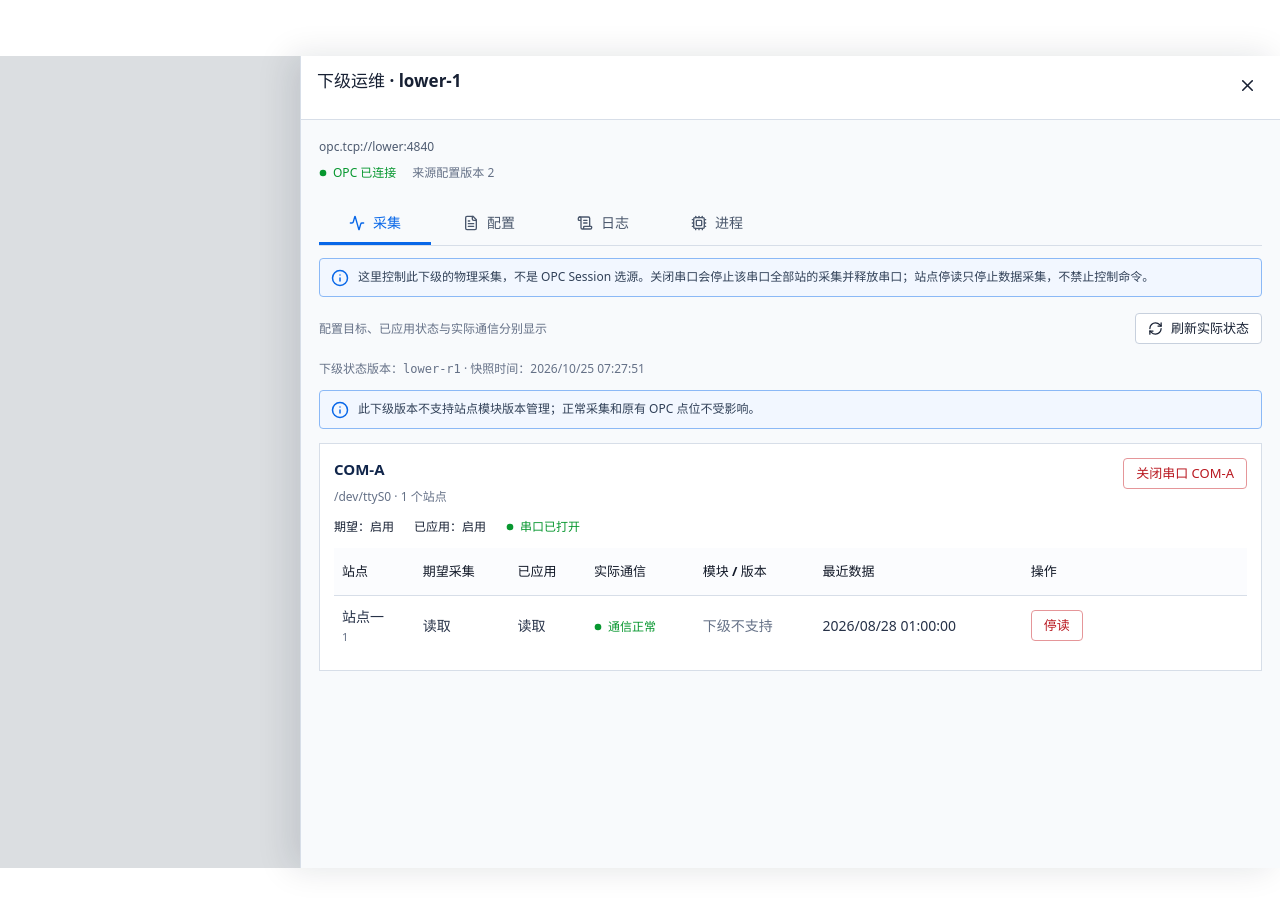
physical lower-source operations drawer › explains a busy physical control without claiming a revision conflict or retrying it
Click the button with aria-label "停读 /dev/ttyS0 1" at (1057, 626), box [1031,610,1083,641]
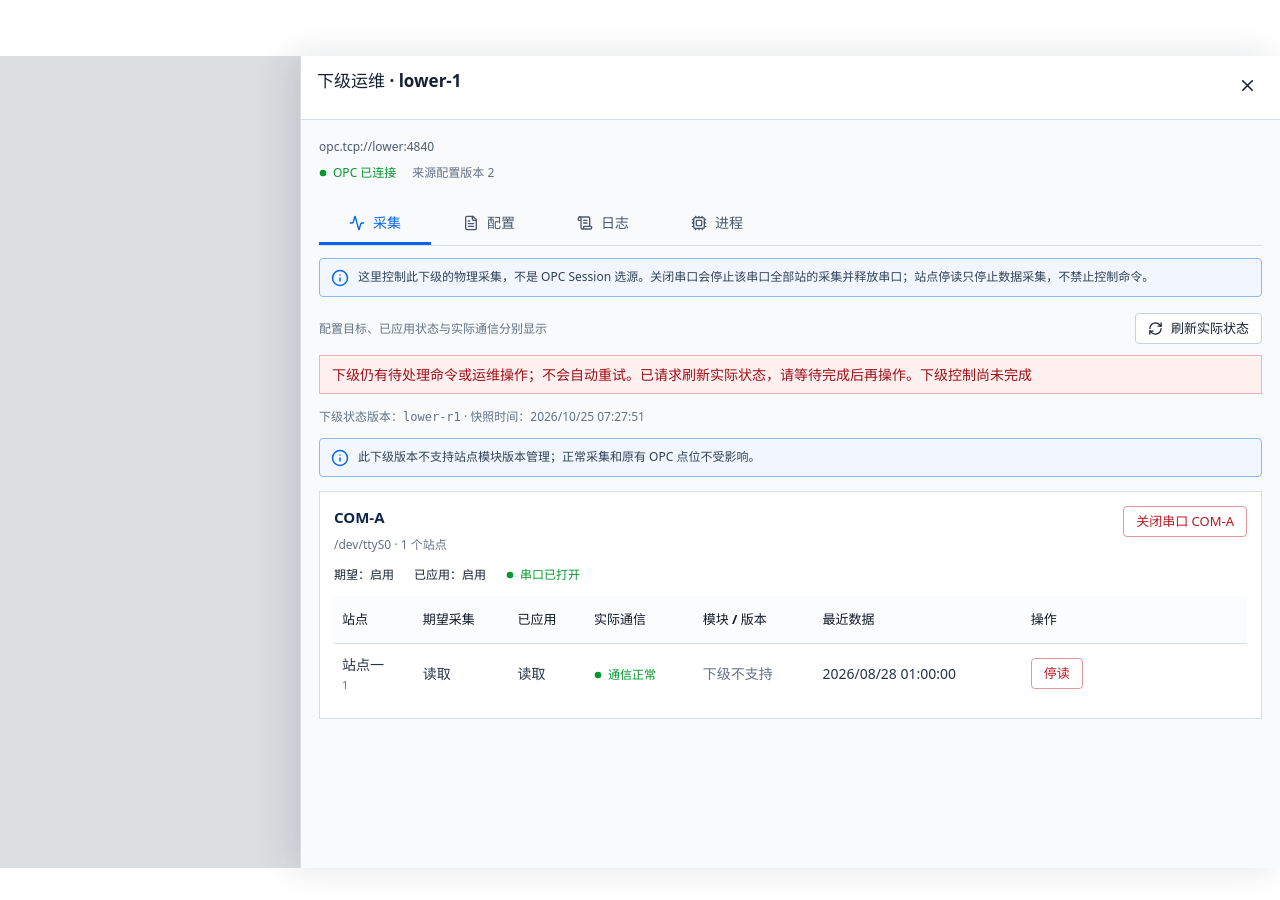
Expected: the text "下级仍有待处理命令或运维操作；不会自动重试。已请求刷新实际状态，请等待完成后再操作。下级控制尚未完成" is shown, [319,355,1262,394]
